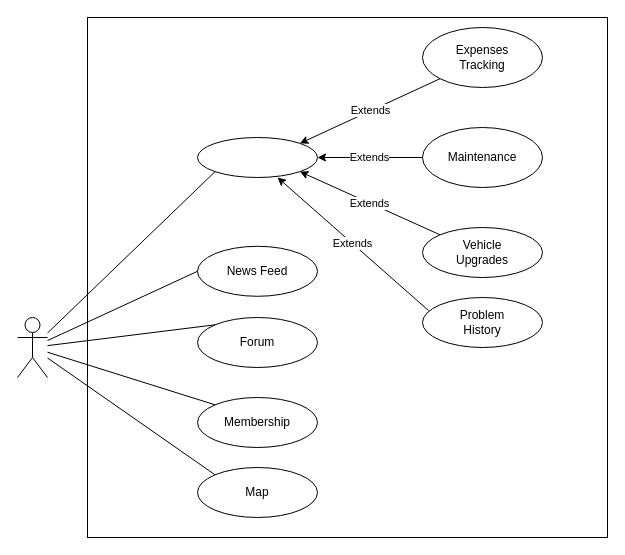
Image size: 625x555. Some labels were removed from this diagram. The centre of each missing label's shape, as x and y in pixels:
Garage: (x=257, y=157)
User: (x=32, y=347)
